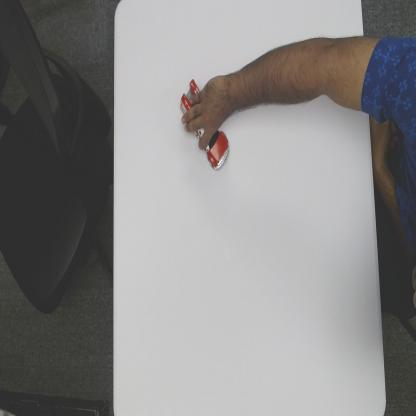Arm: (241, 30, 391, 118)
Firetruck: (180, 77, 230, 171)
Hand: (181, 76, 237, 151)
